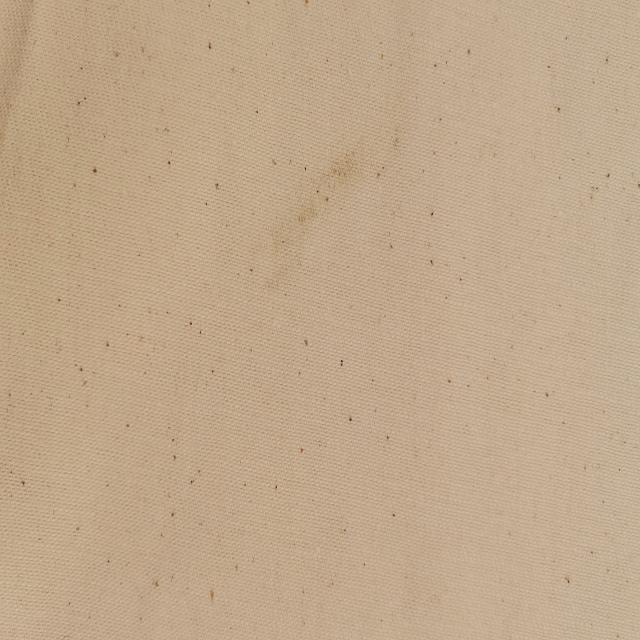taaaches: (287, 148, 364, 232)
